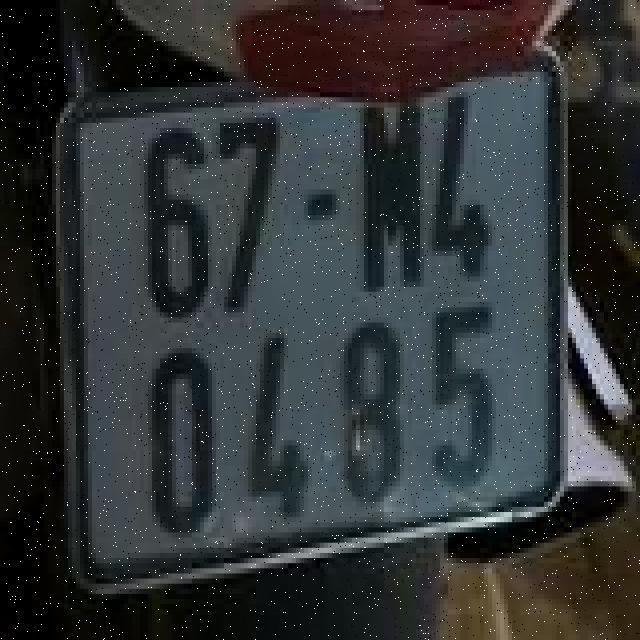0: (144, 346, 224, 550)
4: (242, 322, 326, 542), (432, 87, 508, 282)
5: (424, 292, 512, 496)
6: (126, 110, 214, 325)
7: (218, 105, 290, 325)
8: (332, 312, 416, 528)
M: (350, 90, 426, 294)
